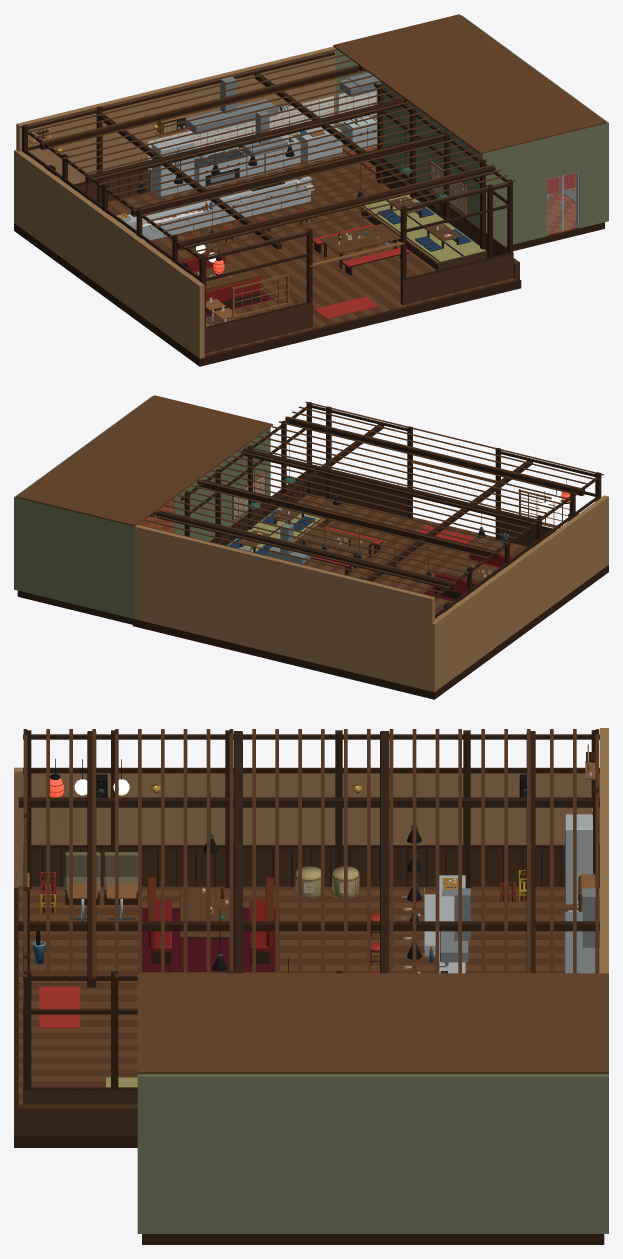
Rendered from minato-interior-walnut.glb.
The picture shows the model from 3 angles, top to bottom: view 1: azimuth 30°, elevation 25°; view 2: azimuth 150°, elevation 25°; view 3: azimuth 270°, elevation 25°; orthographic projection. The views are drawn at different scales.
Visible parts, largest first — view 1: minato-interior / Minato matte, minato-interior / Minato steel, minato-interior / Minato glossy, minato-interior / Minato glass; view 2: minato-interior / Minato matte, minato-interior / Minato glossy, minato-interior / Minato steel; view 3: minato-interior / Minato matte, minato-interior / Minato steel, minato-interior / Minato glossy.
Boxes of the visible parts, <box> form: minato-interior / Minato matte: <box>14,14,608,366</box>; minato-interior / Minato steel: <box>56,72,578,324</box>; minato-interior / Minato glossy: <box>33,91,576,318</box>; minato-interior / Minato glass: <box>143,173,576,276</box>; minato-interior / Minato matte: <box>14,395,608,699</box>; minato-interior / Minato glossy: <box>248,441,578,617</box>; minato-interior / Minato steel: <box>238,495,519,572</box>; minato-interior / Minato matte: <box>14,728,608,1244</box>; minato-interior / Minato steel: <box>69,783,599,973</box>; minato-interior / Minato glossy: <box>33,758,591,1028</box>.
Size of the model in its own units: 18.1 by 4.17 by 13.
